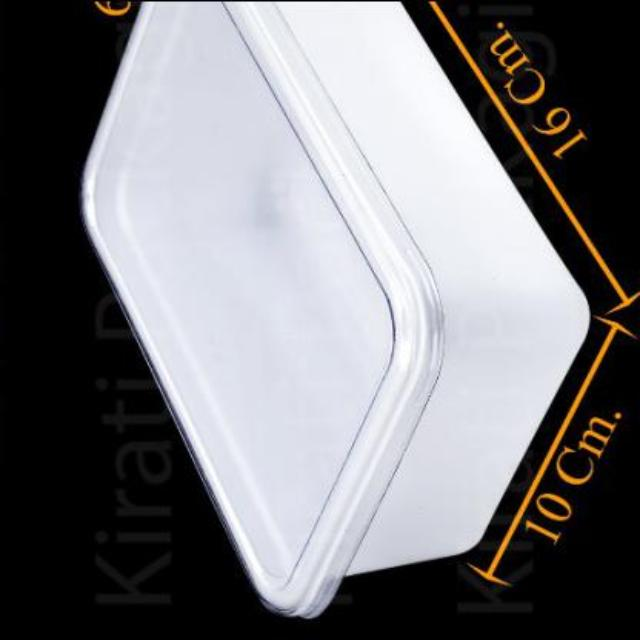plastic_box: (84, 1, 592, 613)
